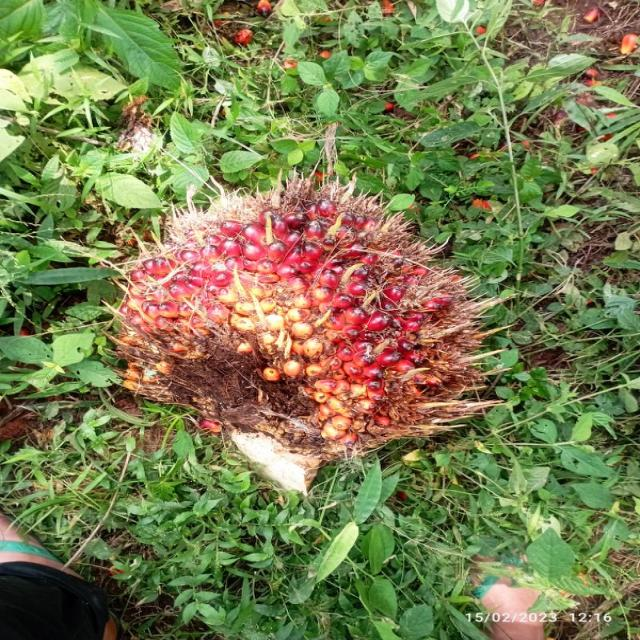fraksi 3: (100, 141, 538, 504)
